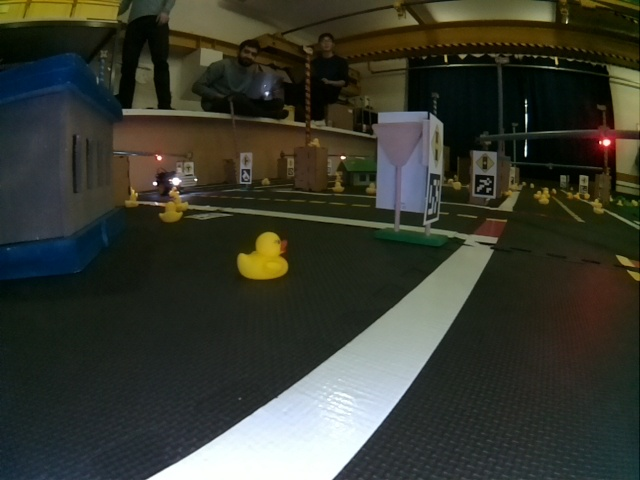Duckie: (238, 234, 287, 278), (160, 202, 181, 222), (126, 195, 138, 207), (367, 183, 376, 193), (169, 188, 179, 197), (333, 182, 341, 190), (541, 196, 549, 204), (596, 204, 603, 213)
Duckiebot: (154, 171, 197, 194)
Intersection sign: (184, 163, 194, 174), (241, 155, 251, 165)
QR code: (425, 173, 441, 223), (474, 174, 495, 197), (241, 170, 251, 182)
Signal sign: (431, 122, 442, 169), (475, 152, 494, 172)
